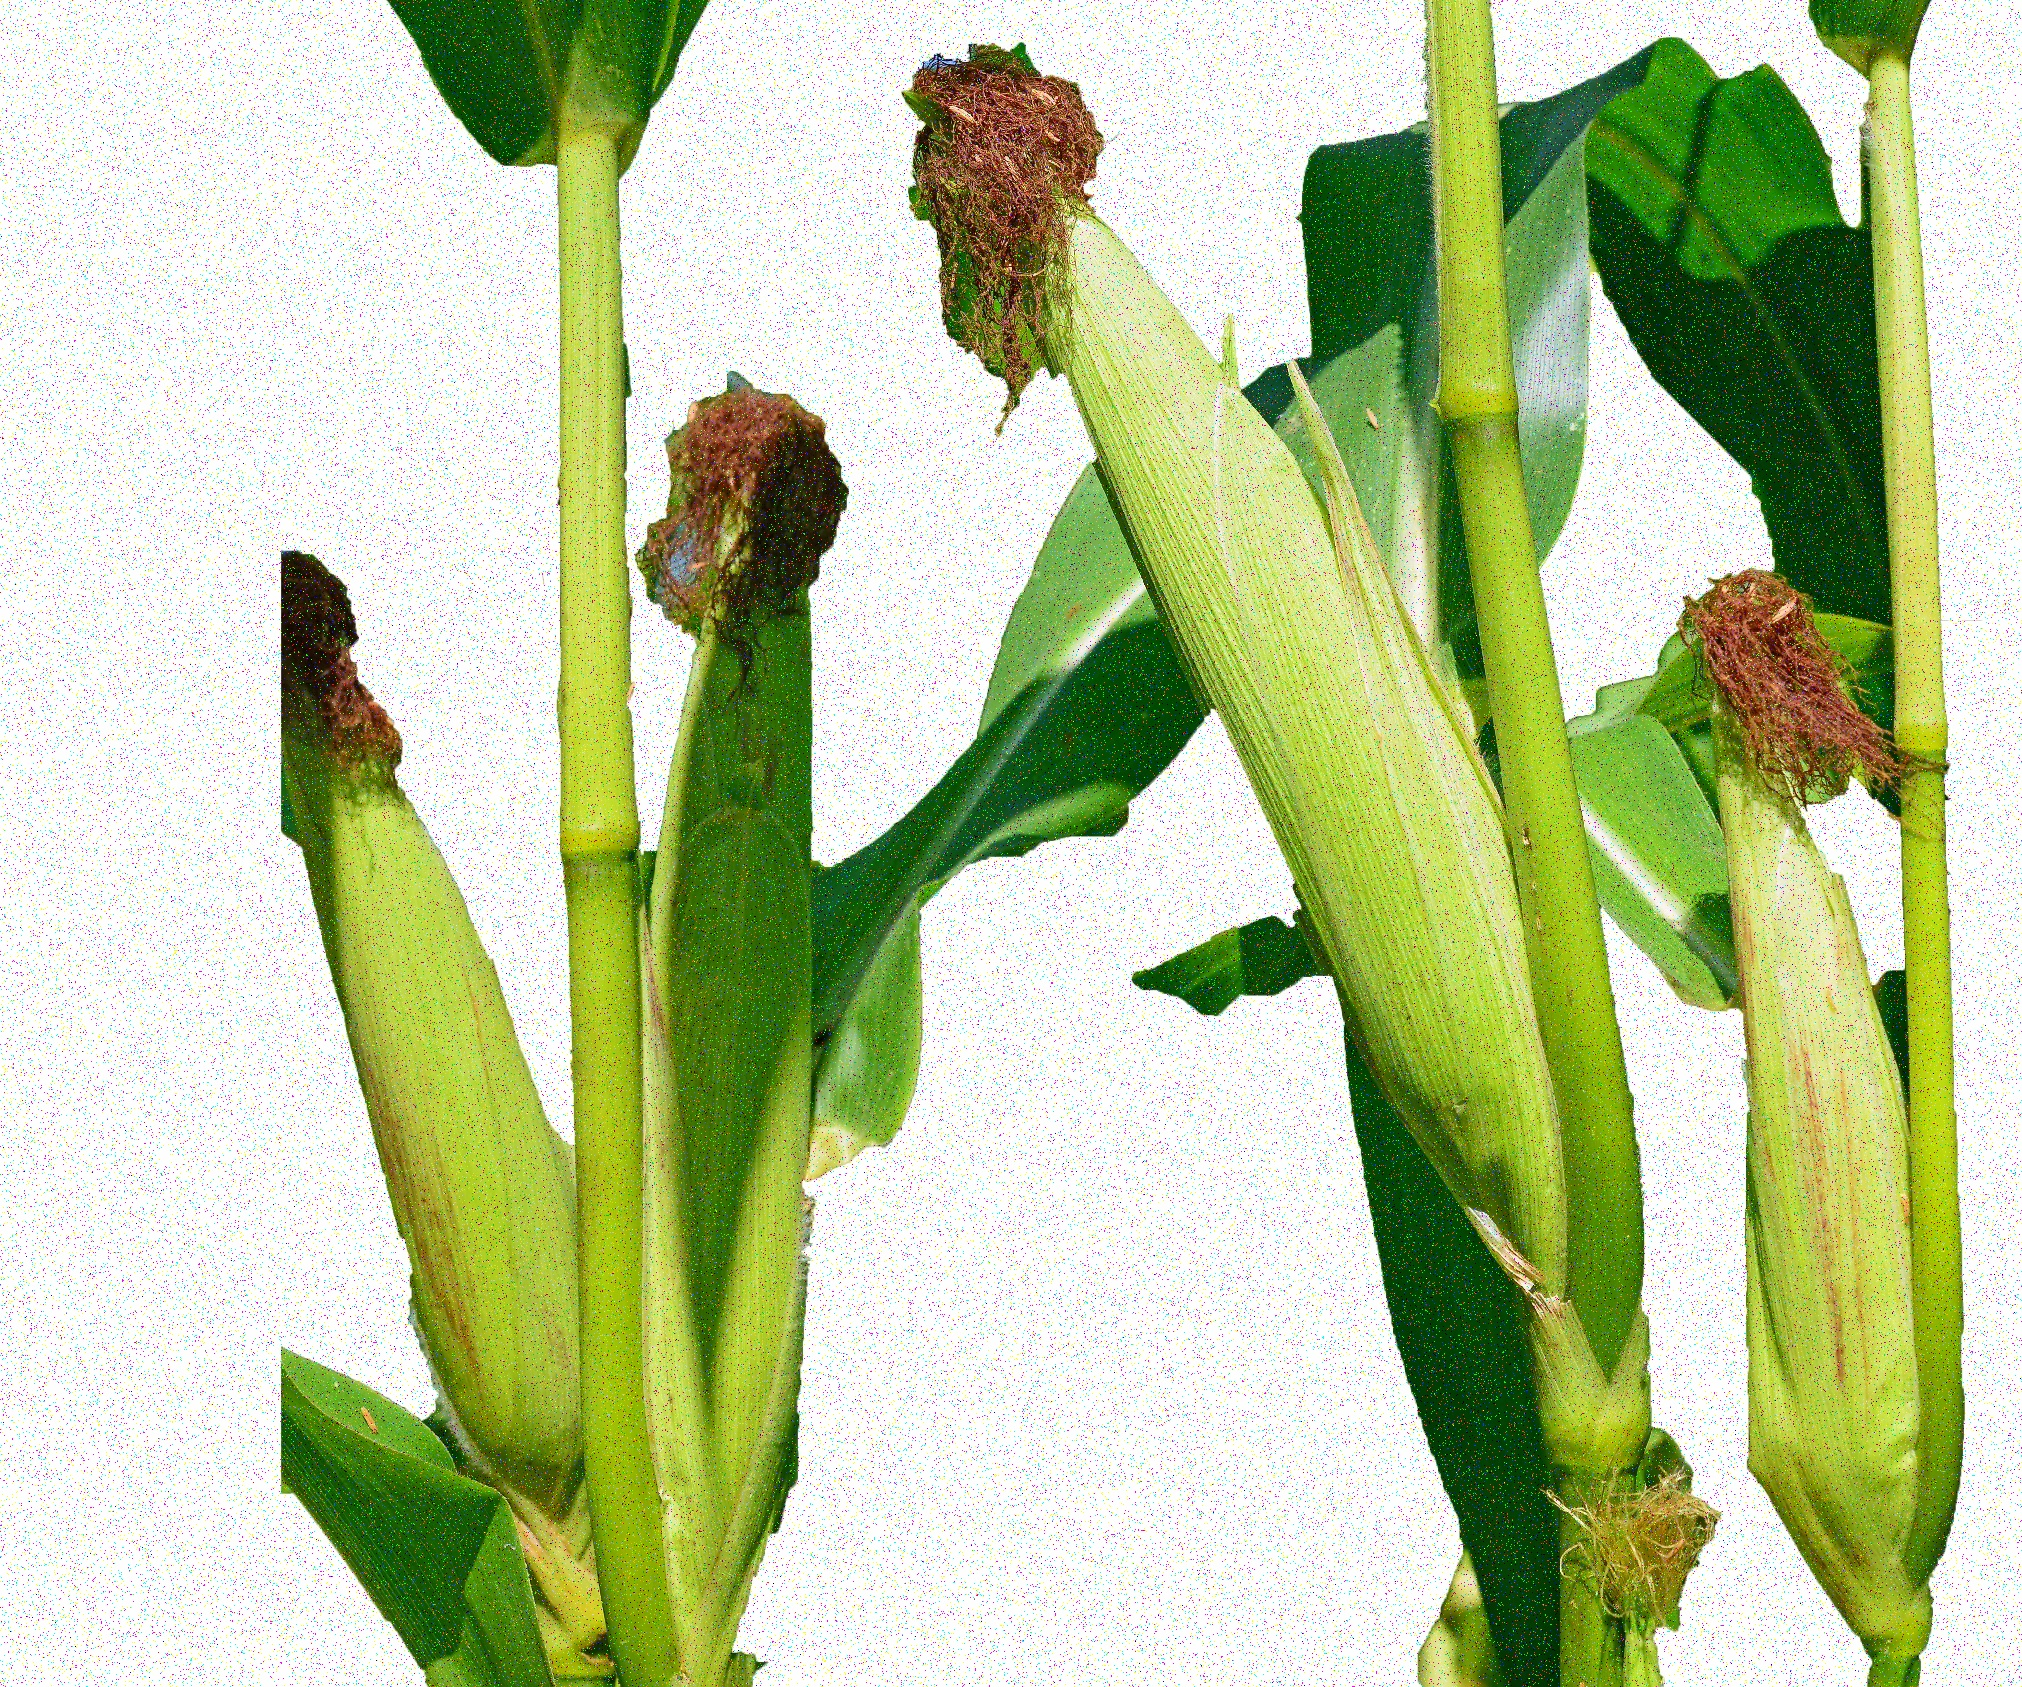corn_plant: (904, 18, 1646, 1440), (1663, 554, 2000, 1657), (285, 547, 616, 1605), (636, 384, 885, 1684)
